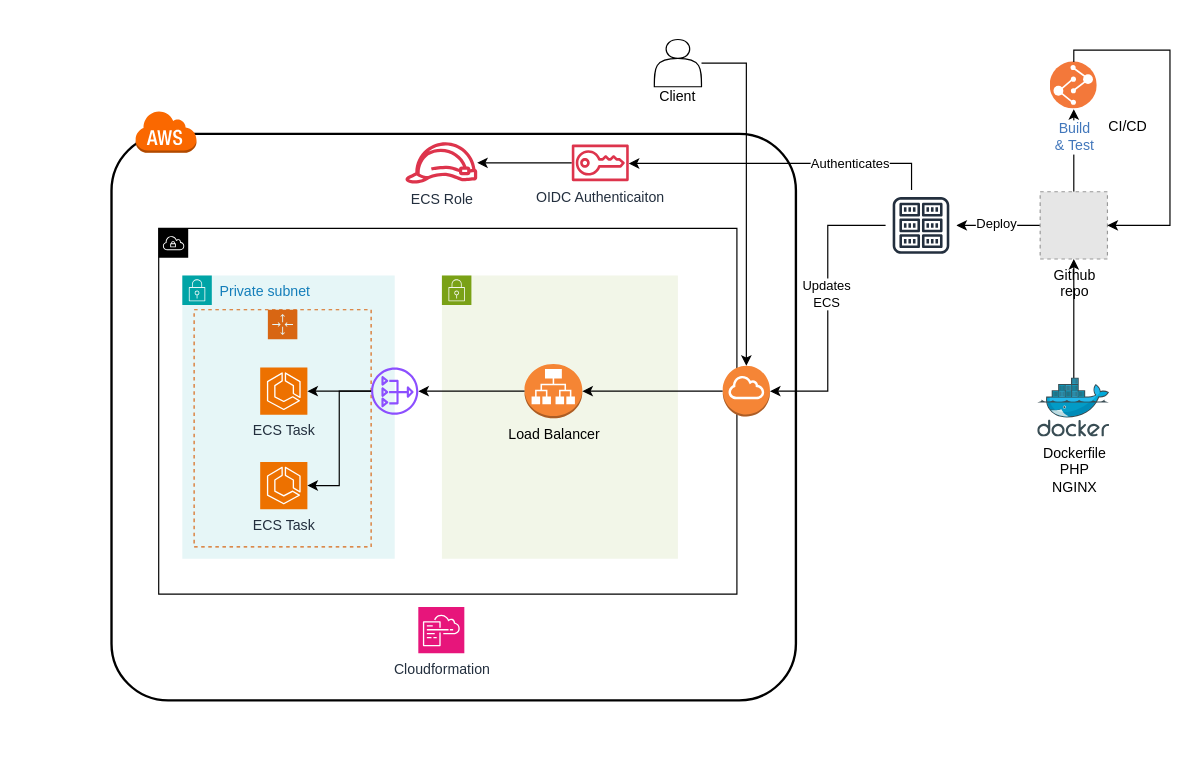
The diagram is 1200 pixels wide and 778 high, and some of its shapes have lost their labels. Grey dashed boxes stand in for pictures. The box of each missing label's shape, as (x1, y1, x2, y2) in pixels:
Auto Scaling group: (193, 309, 371, 547)
Github Container Registry: (884, 189, 956, 261)
Internet Gateway: (722, 365, 770, 417)
NAT Gateway: (371, 367, 418, 414)
Public subnet: (441, 274, 678, 559)
VPC: (158, 227, 737, 594)
